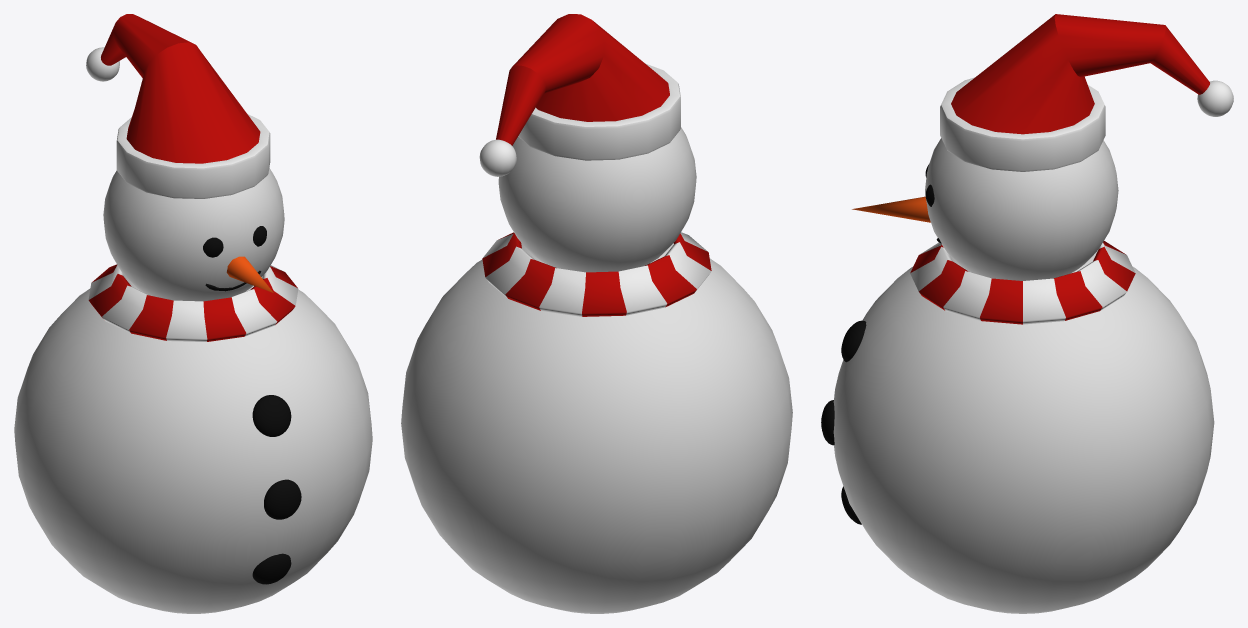
Rendered from snowman2.glb.
3 views of the same model, side by side, from view 1: azimuth 30°, elevation 25°; view 2: azimuth 150°, elevation 25°; view 3: azimuth 270°, elevation 25° (orthographic). The views are drawn at different scales.
Visible parts, largest first — view 1: Sphere_2, Circle.001_9, Sphere.001_3, Circle.002_10, Sphere.003_5, Sphere.002_4, Cone_7, Sphere.004_6; view 2: Sphere_2, Circle.001_9, Sphere.001_3, Circle.002_10; view 3: Sphere_2, Circle.001_9, Sphere.001_3, Circle.002_10, Cone_7, Sphere.003_5.
Boxes of the visible parts, x1,y1,x2,y2 form: Sphere_2: [14, 274, 372, 613]; Circle.001_9: [86, 14, 270, 198]; Sphere.001_3: [103, 168, 284, 301]; Circle.002_10: [88, 264, 298, 341]; Sphere.003_5: [252, 395, 291, 584]; Sphere.002_4: [264, 479, 301, 519]; Cone_7: [226, 256, 273, 292]; Sphere.004_6: [203, 226, 266, 257]; Sphere_2: [401, 242, 792, 613]; Circle.001_9: [479, 14, 680, 176]; Sphere.001_3: [498, 127, 696, 272]; Circle.002_10: [482, 232, 711, 316]; Sphere_2: [833, 249, 1214, 613]; Circle.001_9: [940, 14, 1233, 171]; Sphere.001_3: [925, 138, 1118, 280]; Circle.002_10: [910, 241, 1135, 324]; Cone_7: [852, 196, 930, 222]; Sphere.003_5: [841, 320, 866, 524].
Bounding box in the file's own units: 2 × 3.34 × 2.16.
